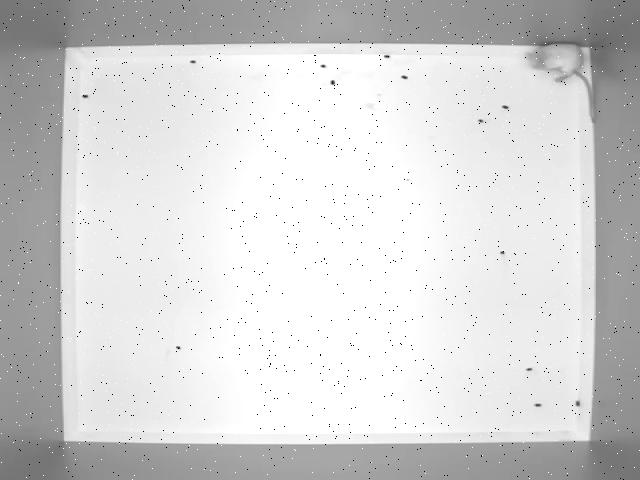Tikus: (522, 38, 612, 122)
